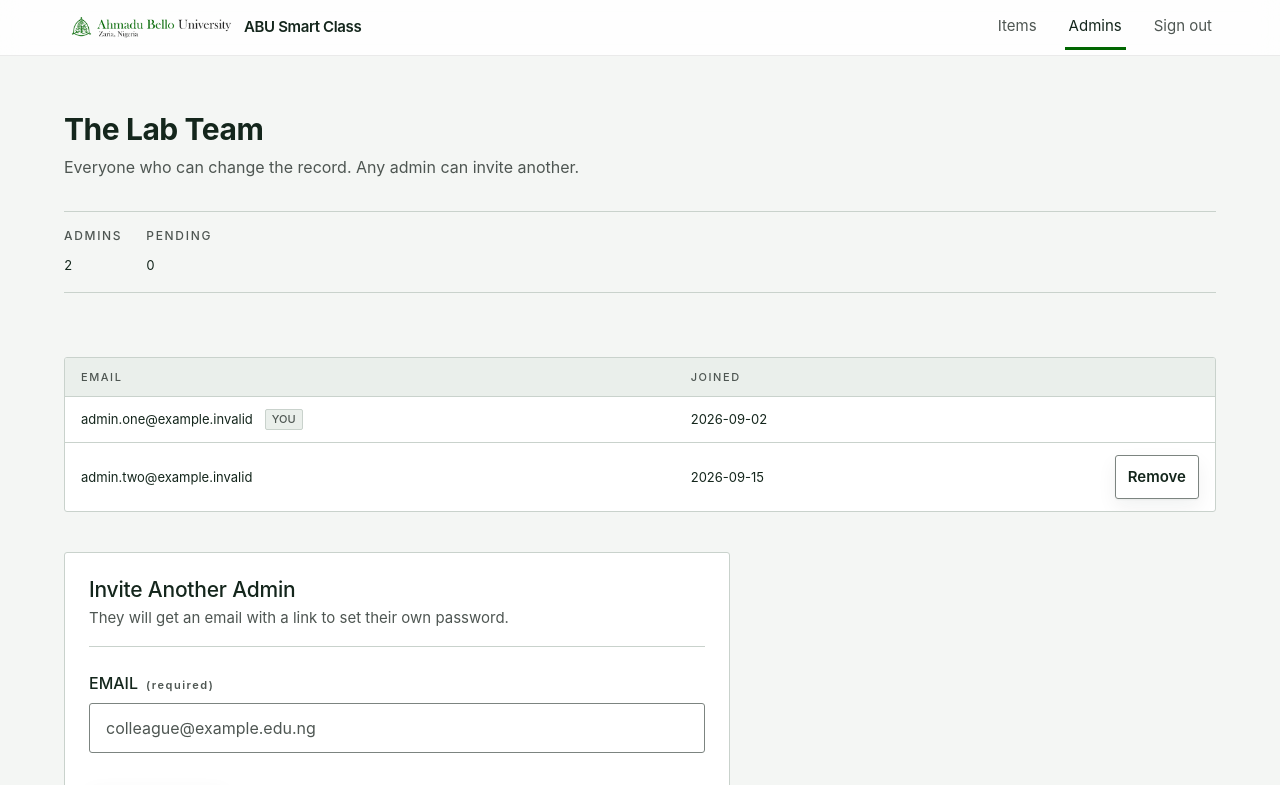
app/admin/admins/page (S-008) › deletes non-last admin and removes the row from the table
Click the button with aria-label "Remove admin.two@example.invalid".
click(1157, 477)  # box [1115,455,1199,499]
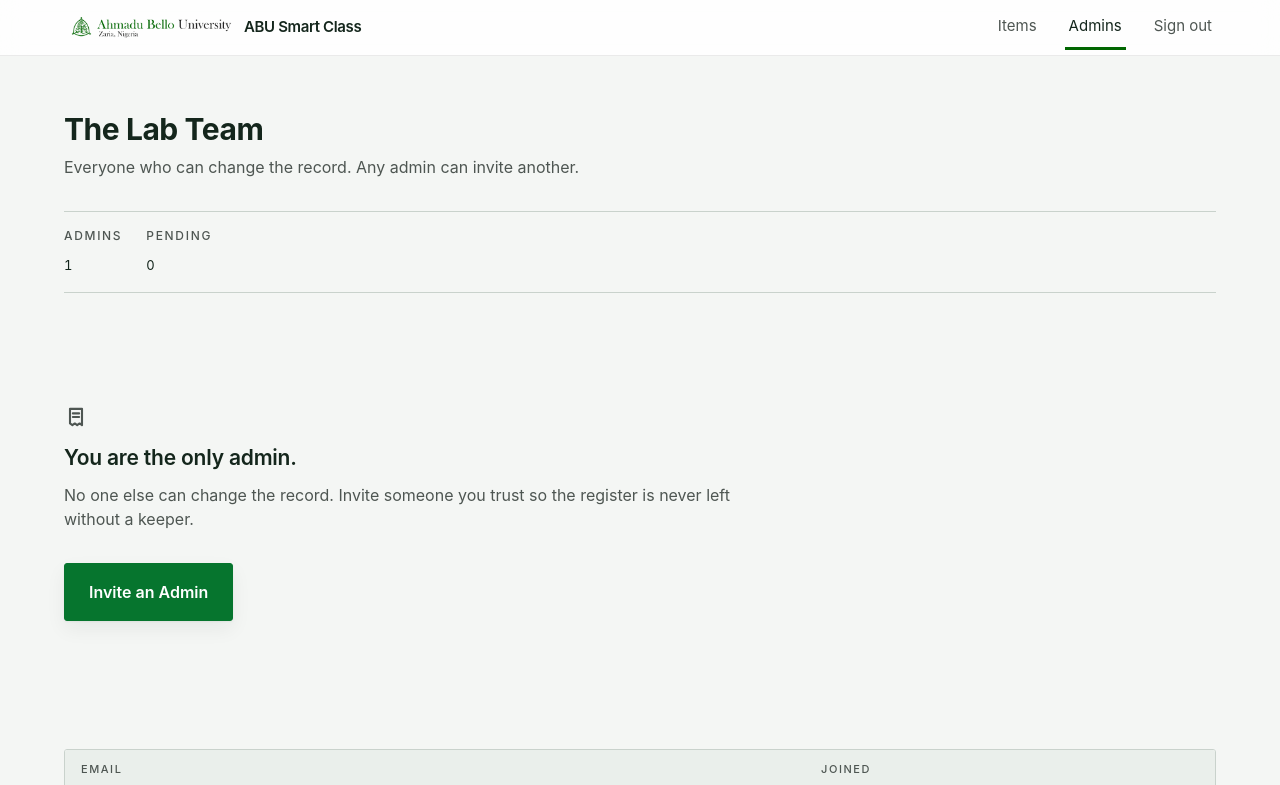
Expected: the text "admin.two@example.invalid" is gone
